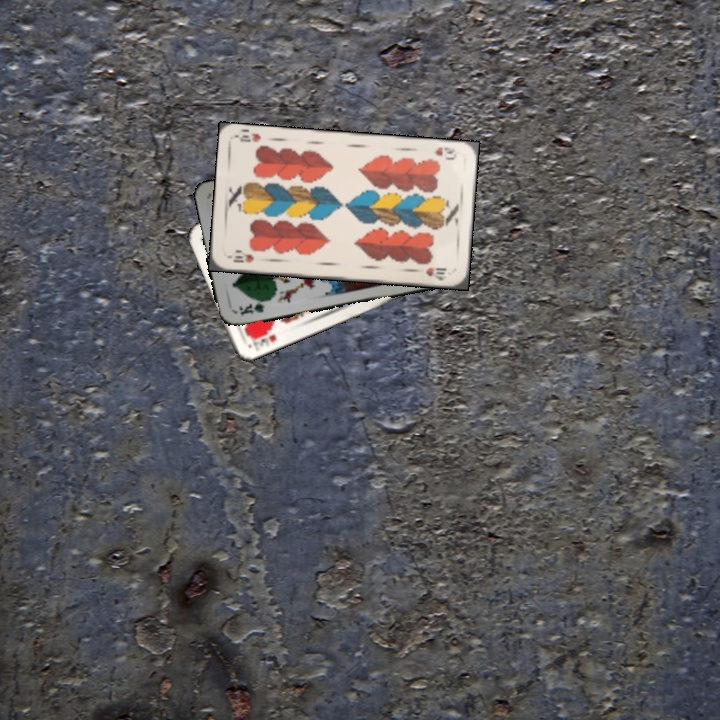GK: (235, 296, 271, 318)
H10: (430, 143, 462, 163), (229, 250, 256, 265)
HK: (248, 328, 279, 354)
